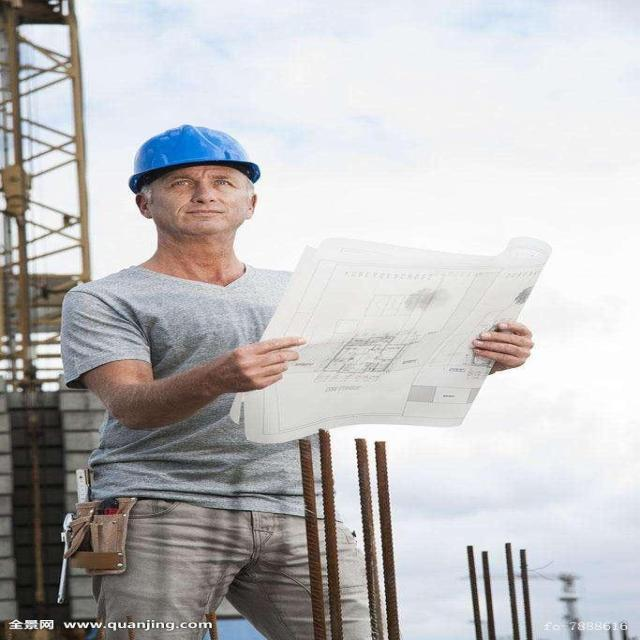NO_Safety_vest: (48, 253, 318, 488)
helmet_OK: (124, 117, 264, 260)
